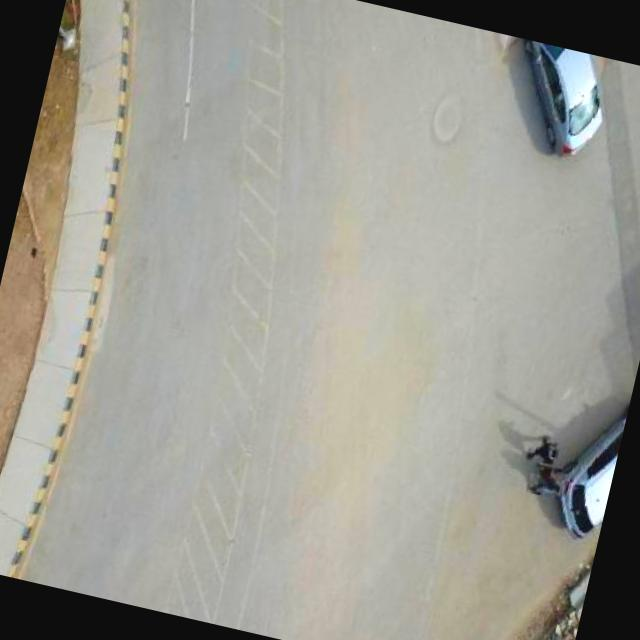Person: (524, 430, 562, 469), (528, 461, 566, 498)
